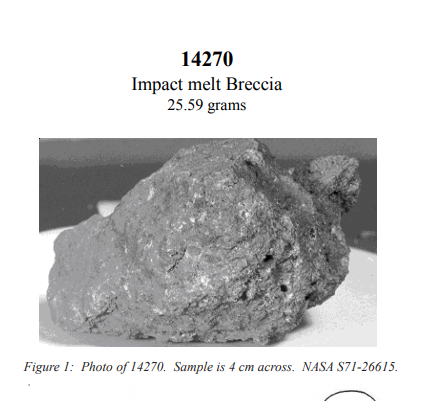Breccia: (36, 136, 368, 344)
